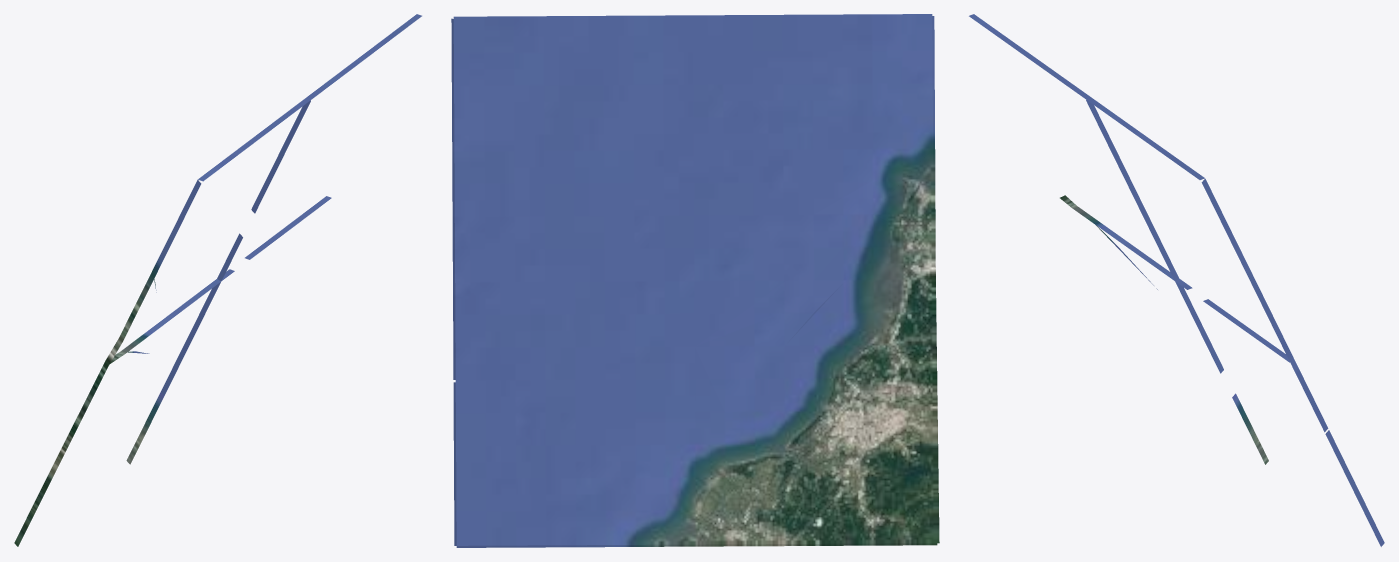
3 renders of one model, left to right at view 1: azimuth 30°, elevation 25°; view 2: azimuth 150°, elevation 25°; view 3: azimuth 270°, elevation 25°, orthographic. The views are drawn at different scales.
Size of the model in its own units: 39556 by 35921 by 32773.
Materials: 1 (1 with a texture image).
